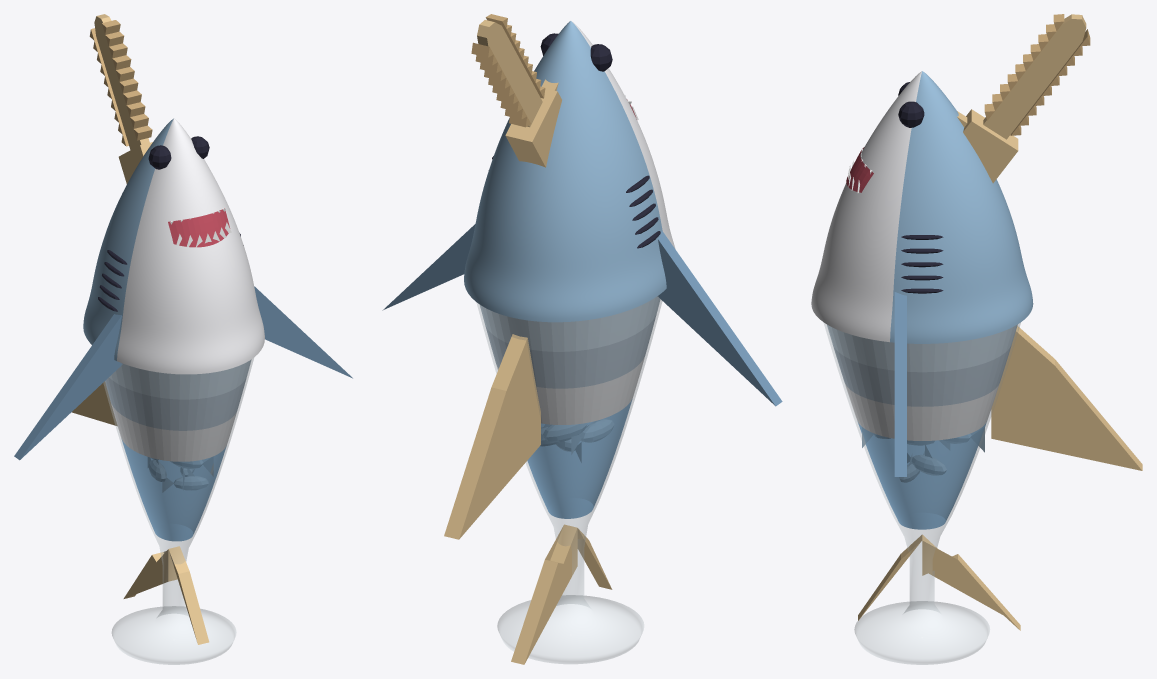
The model's file is item_shark_parfait.glb.
3 renders of one model, left to right at view 1: azimuth 30°, elevation 25°; view 2: azimuth 150°, elevation 25°; view 3: azimuth 270°, elevation 25°, orthographic. The views are drawn at different scales.
Visible parts, largest first — view 1: SharkParfait; view 2: SharkParfait; view 3: SharkParfait.
Boxes of the visible parts, x1,y1,x2,y2 form: SharkParfait: [14, 14, 352, 664]; SharkParfait: [382, 14, 782, 664]; SharkParfait: [811, 14, 1142, 664].
Size of the model in its own units: 0.2346 by 0.3835 by 0.1853.
